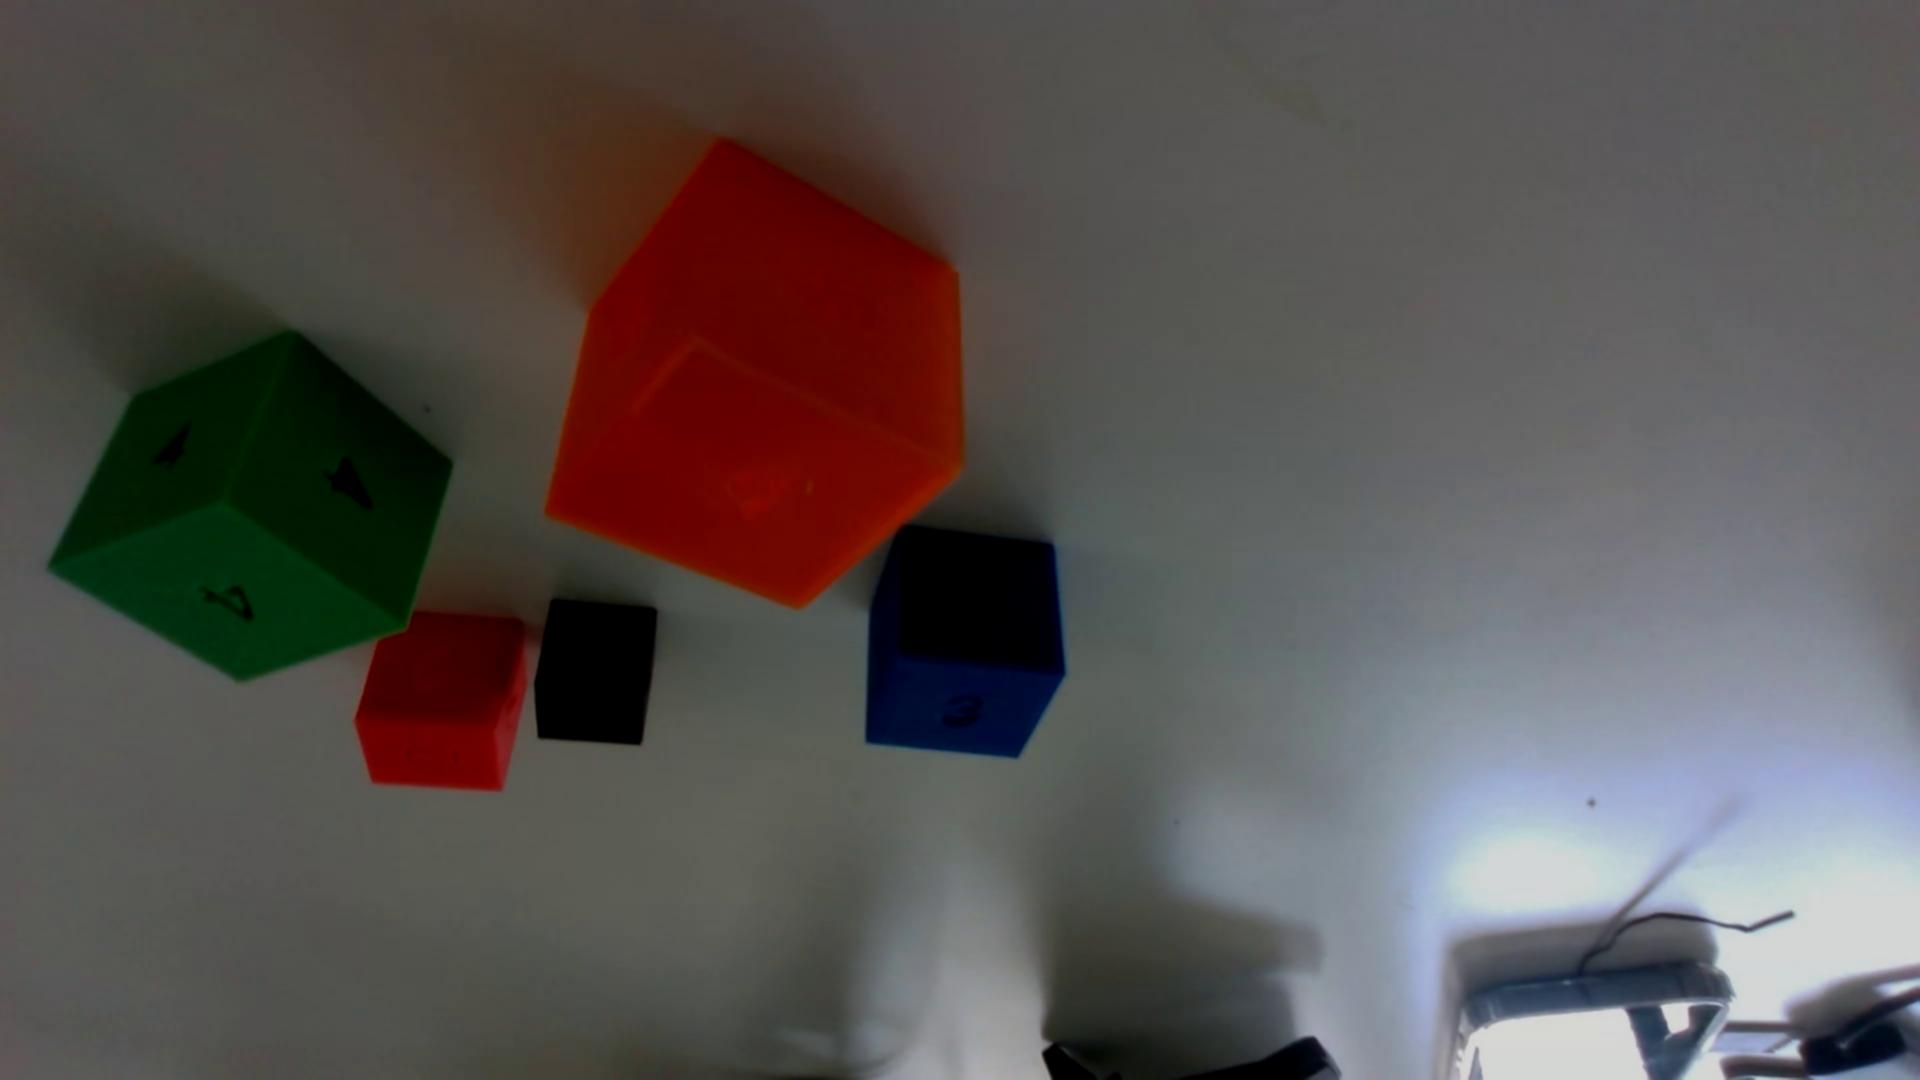black: (534, 597, 658, 745)
blue: (866, 525, 1065, 756)
green: (49, 332, 452, 680)
orange: (546, 141, 964, 607)
red: (355, 611, 530, 790)
